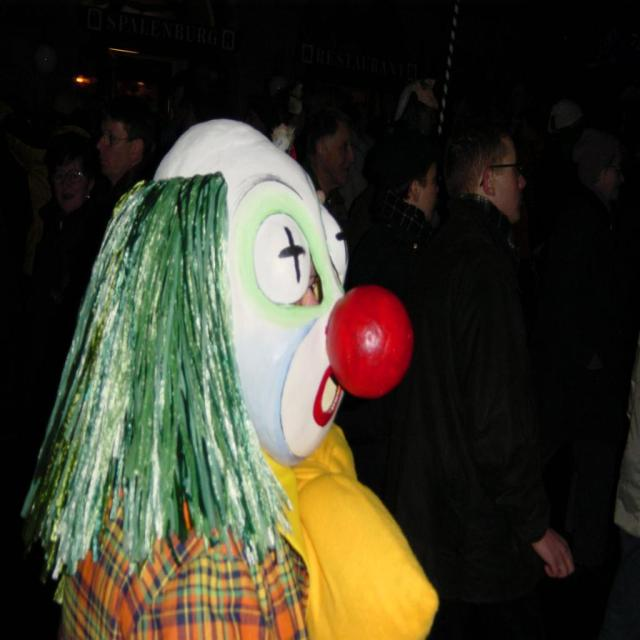Ball: (326, 287, 415, 396)
